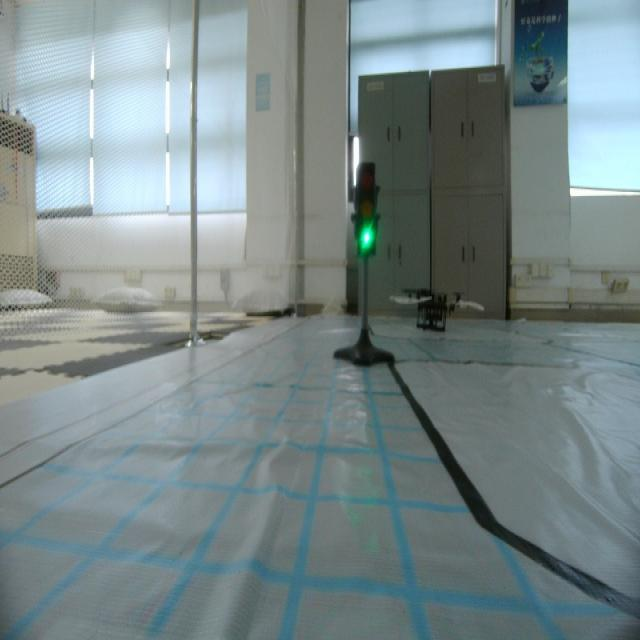green: (350, 161, 382, 266)
